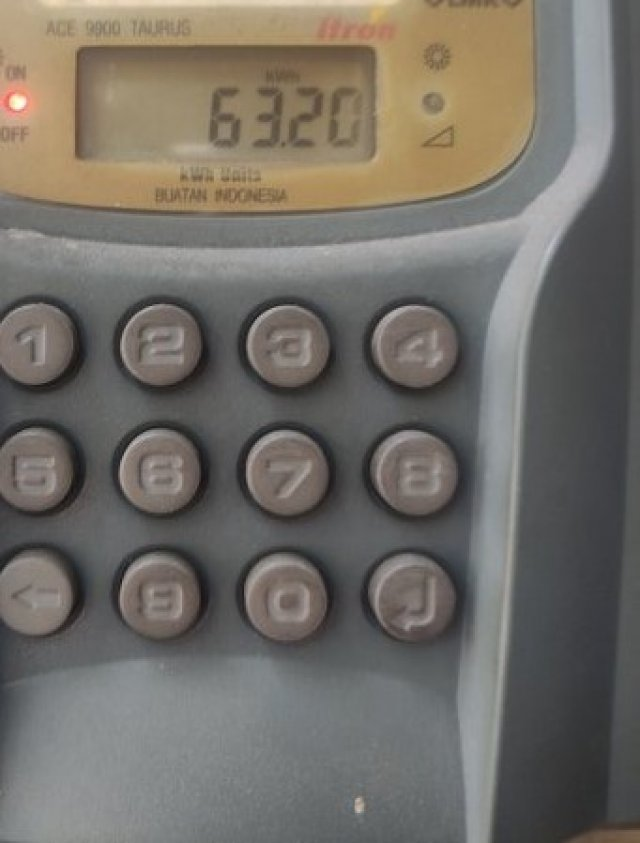box: (76, 45, 377, 160)
